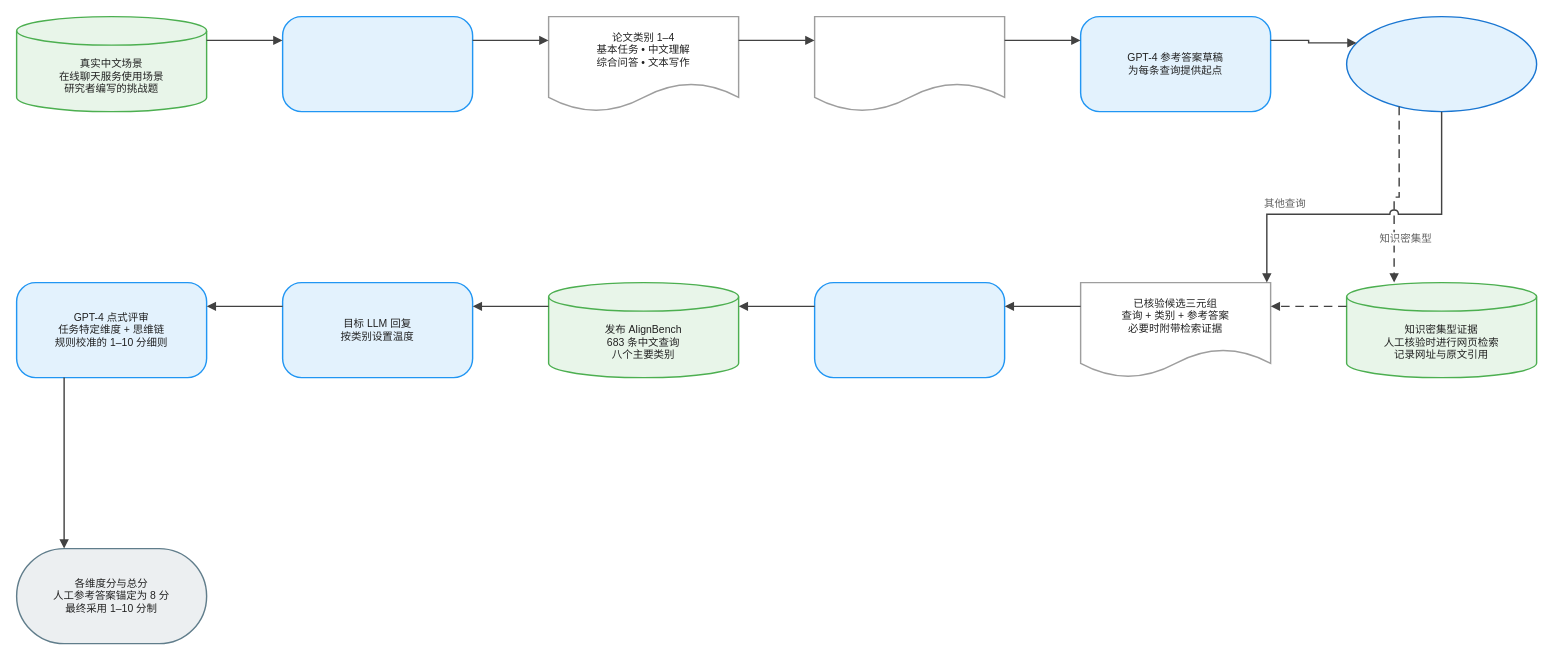
This 1554x661 diagram has some shape labels left out. Each missing label, with the centre of its shape:
"三模型难度过滤 GPT-3.5-Turbo • ChatGLM • 讯飞星火 GPT-4 评分；剔除最易的 50%" goes at (909,329).
"人工核验参考答案 修订并完善草稿 检查正确性与质量" goes at (1441,63).
"四条查询规则 任务导向 • 清晰流畅 困难复杂 • 脱敏处理" goes at (377,63).
"论文类别 5–8 逻辑推理 • 数学计算 角色扮演 • 专业能力" goes at (909,63).
